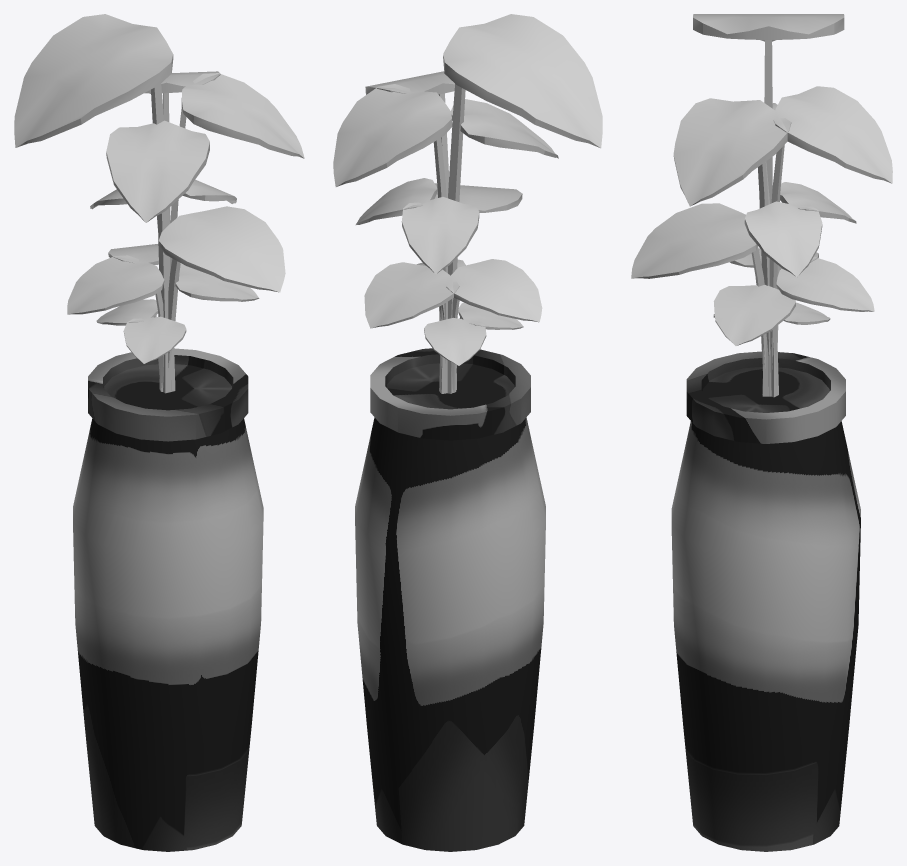
Rendered from FlowerPot0.FBX.
3 views of the same model, side by side, from view 1: azimuth 30°, elevation 25°; view 2: azimuth 150°, elevation 25°; view 3: azimuth 270°, elevation 25° (orthographic).
Visible parts, largest first — view 1: flowerpot0, plant0; view 2: flowerpot0, plant0; view 3: flowerpot0, plant0.
Part boxes in pixels (x1=…): flowerpot0: x1=73, y1=348, x2=263, y2=851; plant0: x1=14, y1=14, x2=304, y2=393; flowerpot0: x1=355, y1=348, x2=545, y2=851; plant0: x1=333, y1=14, x2=602, y2=393; flowerpot0: x1=671, y1=351, x2=860, y2=851; plant0: x1=631, y1=14, x2=892, y2=397.
Bounding box in the file's own units: 9.44 × 28.38 × 8.53.
